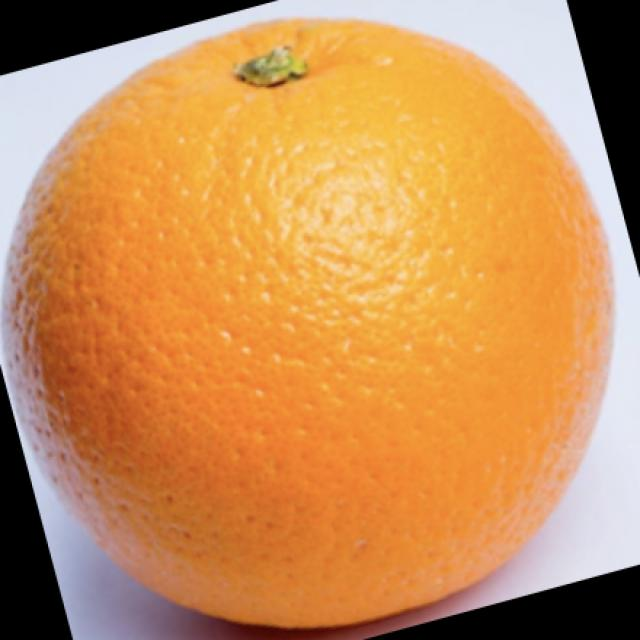fresh: (7, 17, 618, 626)
